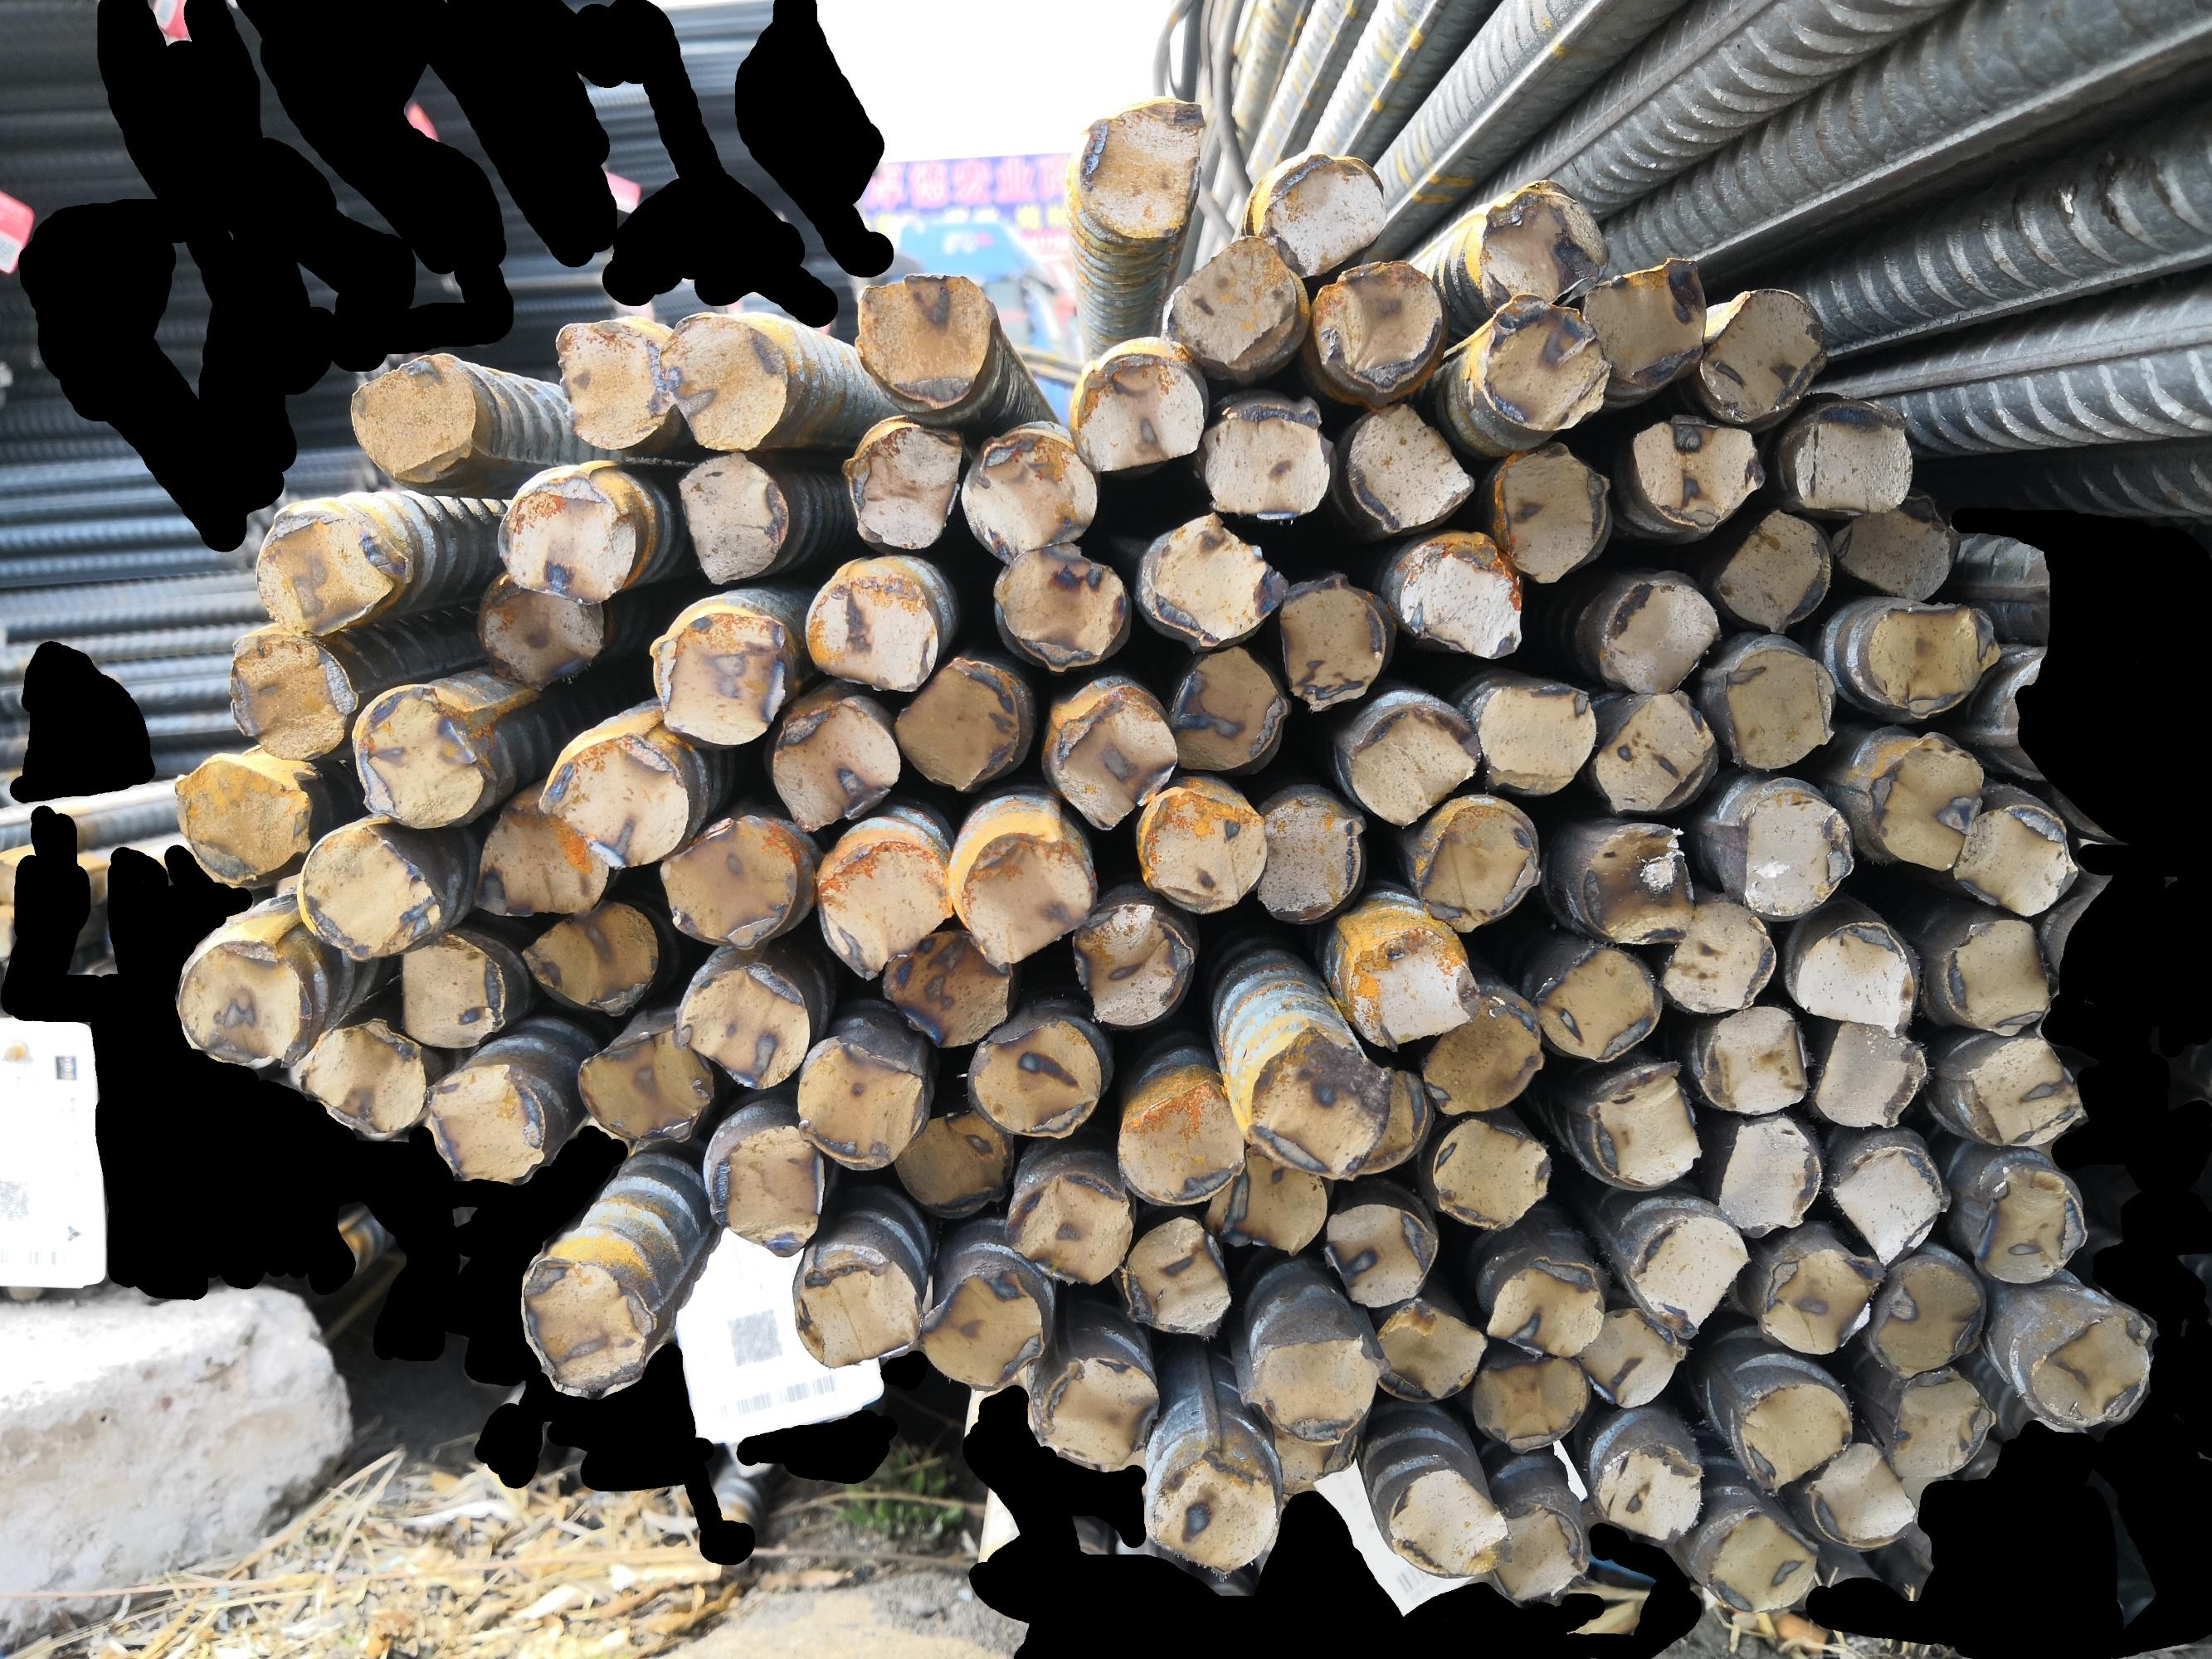bar: (1241, 1018, 1394, 1187), (533, 725, 695, 873), (1135, 504, 1293, 652), (289, 819, 448, 964), (509, 1251, 659, 1403), (950, 826, 1102, 976), (849, 267, 1002, 411), (490, 467, 641, 612), (343, 681, 486, 835), (654, 303, 797, 457), (809, 836, 955, 985), (1156, 230, 1302, 378), (647, 605, 795, 749), (650, 812, 804, 951), (1044, 687, 1185, 836), (1069, 91, 1206, 244), (1482, 432, 1616, 589), (1473, 288, 1614, 436), (1572, 253, 1713, 401), (166, 751, 316, 890), (1238, 148, 1393, 282), (1691, 282, 1834, 427), (1306, 256, 1450, 399), (338, 350, 488, 488), (1333, 695, 1483, 833), (169, 931, 312, 1073), (887, 650, 1027, 796), (1137, 1439, 1285, 1577), (1471, 173, 1609, 321), (251, 505, 404, 638), (957, 427, 1100, 568), (1340, 392, 1478, 537), (668, 958, 818, 1091), (1388, 532, 1537, 664), (765, 692, 903, 835), (1584, 681, 1727, 819), (1855, 592, 2005, 723), (1858, 730, 1987, 882), (1133, 782, 1272, 922), (220, 626, 361, 763), (987, 537, 1128, 674), (1410, 796, 1546, 939), (1726, 779, 1860, 924), (788, 1037, 927, 1175), (570, 1018, 720, 1145), (1107, 1075, 1246, 1211), (1069, 340, 1208, 476), (964, 1014, 1107, 1147), (1339, 924, 1485, 1053), (910, 1256, 1048, 1392), (1159, 641, 1295, 779), (800, 565, 943, 695), (1625, 404, 1769, 533), (467, 793, 614, 920), (514, 894, 664, 1018), (1415, 983, 1550, 1121), (289, 1014, 431, 1145), (1191, 397, 1335, 525), (1619, 1209, 1757, 1342), (1708, 502, 1839, 640), (1520, 941, 1661, 1068), (702, 1119, 828, 1262), (1815, 484, 1963, 605), (1581, 1056, 1708, 1195), (833, 420, 966, 552), (1820, 1140, 1954, 1270), (471, 565, 607, 694), (1715, 634, 1839, 775), (547, 315, 675, 451), (879, 925, 1016, 1051), (387, 925, 516, 1058), (1591, 573, 1727, 699), (1783, 394, 1919, 519), (1069, 899, 1199, 1028), (1025, 1351, 1159, 1476), (1966, 1157, 2092, 1291), (1424, 1110, 1558, 1236), (997, 1166, 1135, 1288), (1248, 1330, 1386, 1452), (673, 446, 791, 587), (1750, 1243, 1891, 1361), (2025, 1305, 2154, 1434), (885, 1100, 1018, 1225), (1785, 915, 1917, 1040), (1243, 796, 1367, 931), (1574, 816, 1696, 951), (1947, 796, 2083, 918), (788, 1249, 926, 1370), (1276, 575, 1393, 716), (1867, 1251, 1991, 1384), (1469, 674, 1602, 798), (1954, 1032, 2092, 1150), (1651, 896, 1781, 1019), (1114, 1211, 1236, 1342), (1727, 1375, 1860, 1495), (1937, 911, 2057, 1044), (1194, 1143, 1333, 1256), (422, 1060, 549, 1183), (1382, 1464, 1515, 1579), (1708, 1115, 1825, 1244), (1314, 1192, 1440, 1310), (1808, 1014, 1933, 1133), (1694, 1002, 1815, 1124), (1700, 1500, 1820, 1619), (1367, 1293, 1490, 1408), (1480, 1255, 1609, 1363), (1569, 1298, 1687, 1413), (1884, 1364, 1996, 1485), (1468, 1349, 1590, 1459), (1802, 1436, 1919, 1549), (1482, 1493, 1593, 1608), (1590, 1436, 1706, 1546), (1353, 1060, 1433, 1183), (1265, 1406, 1368, 1500)
